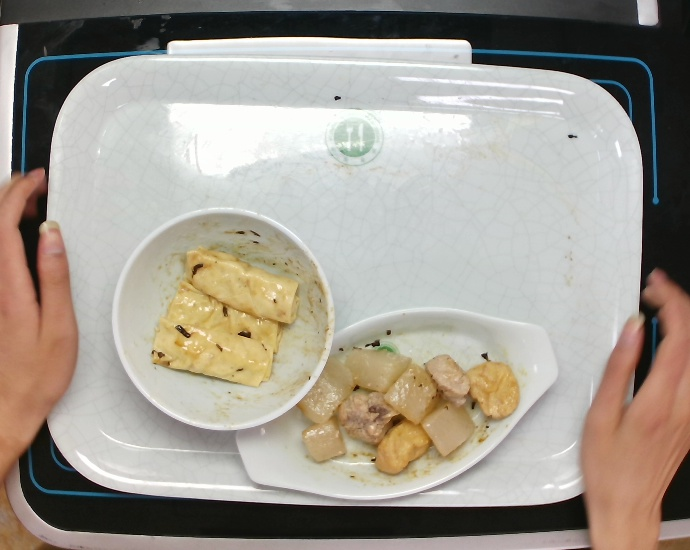JYsf-Fan_Wan: (105, 197, 335, 437)
JYsf-Yu_Pan: (233, 299, 562, 505)
